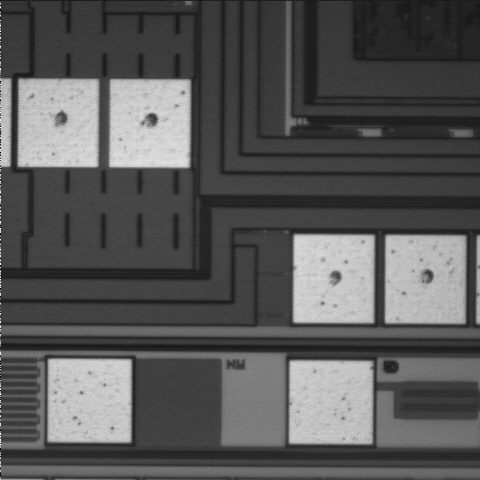pad: (294, 235, 374, 323), (18, 80, 98, 167), (110, 80, 190, 167), (48, 359, 131, 442), (386, 236, 465, 323), (290, 361, 372, 443)
